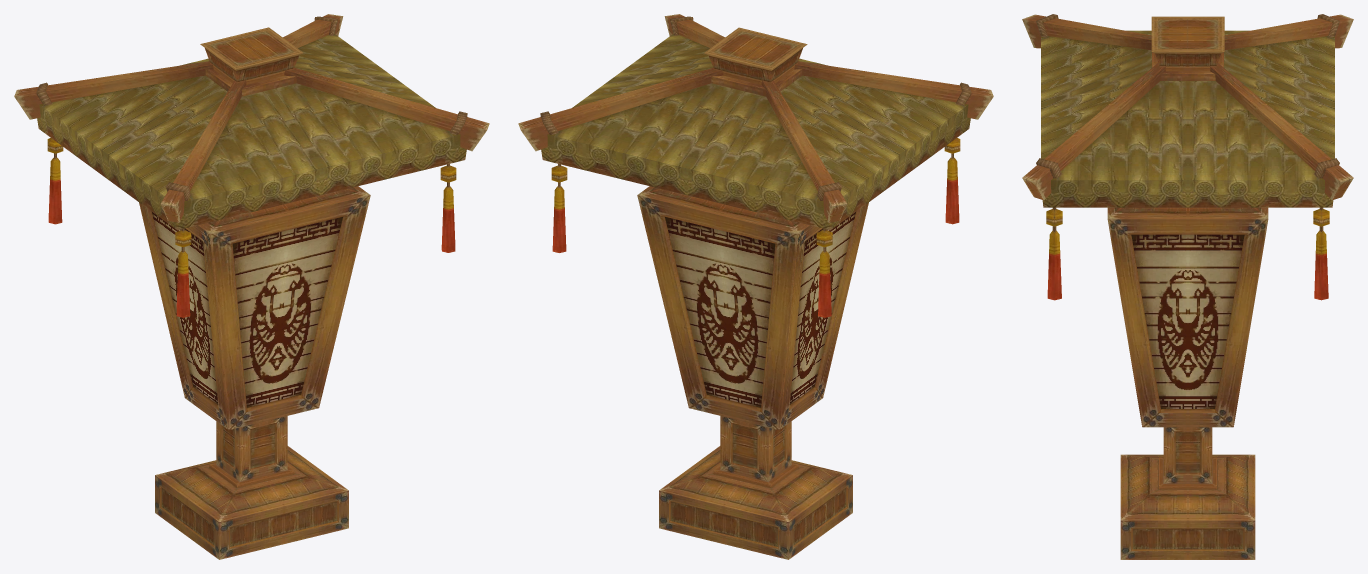
3 views of the same model, side by side, from view 1: azimuth 30°, elevation 25°; view 2: azimuth 150°, elevation 25°; view 3: azimuth 270°, elevation 25° (orthographic). The views are drawn at different scales.
Size of the model in its own units: 1.5 by 2.06 by 1.26.
Materials: 1 (1 with a texture image).
